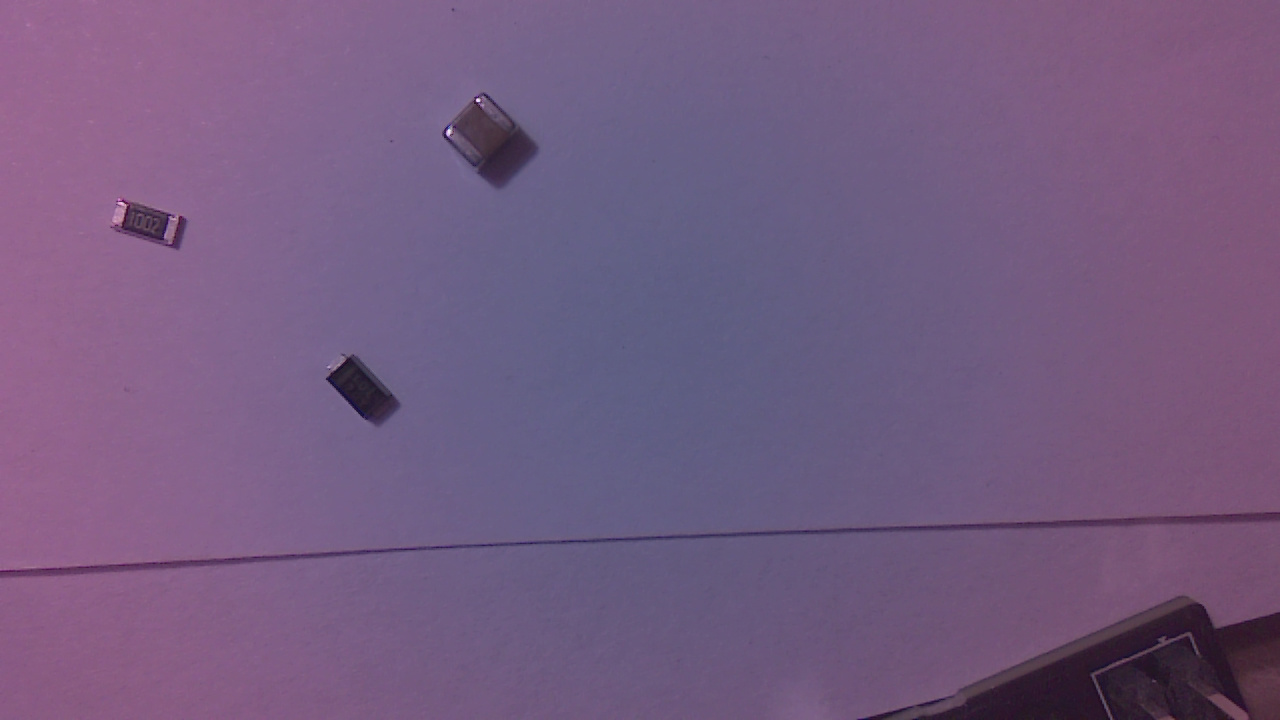Condensator: (444, 98, 527, 175)
Diode: (327, 354, 405, 421)
Resistor: (115, 201, 193, 253)
